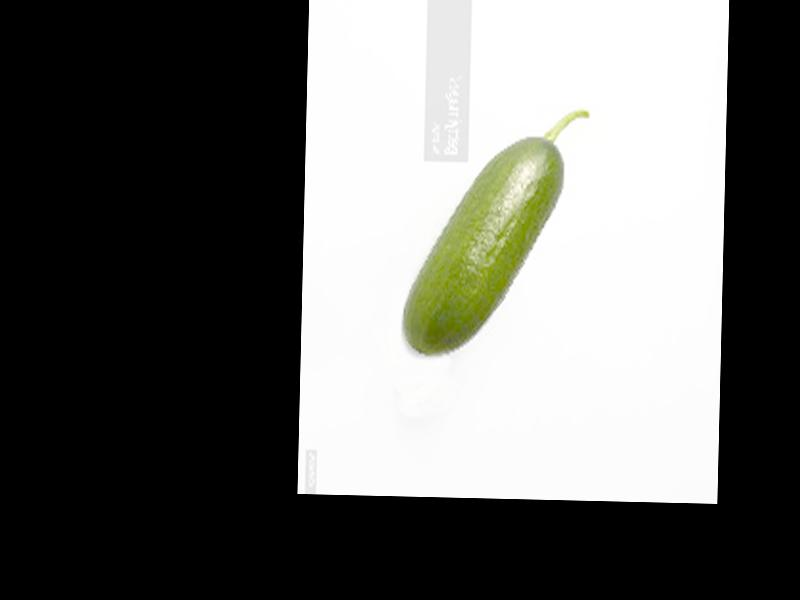Cucumber: (400, 101, 587, 357)
